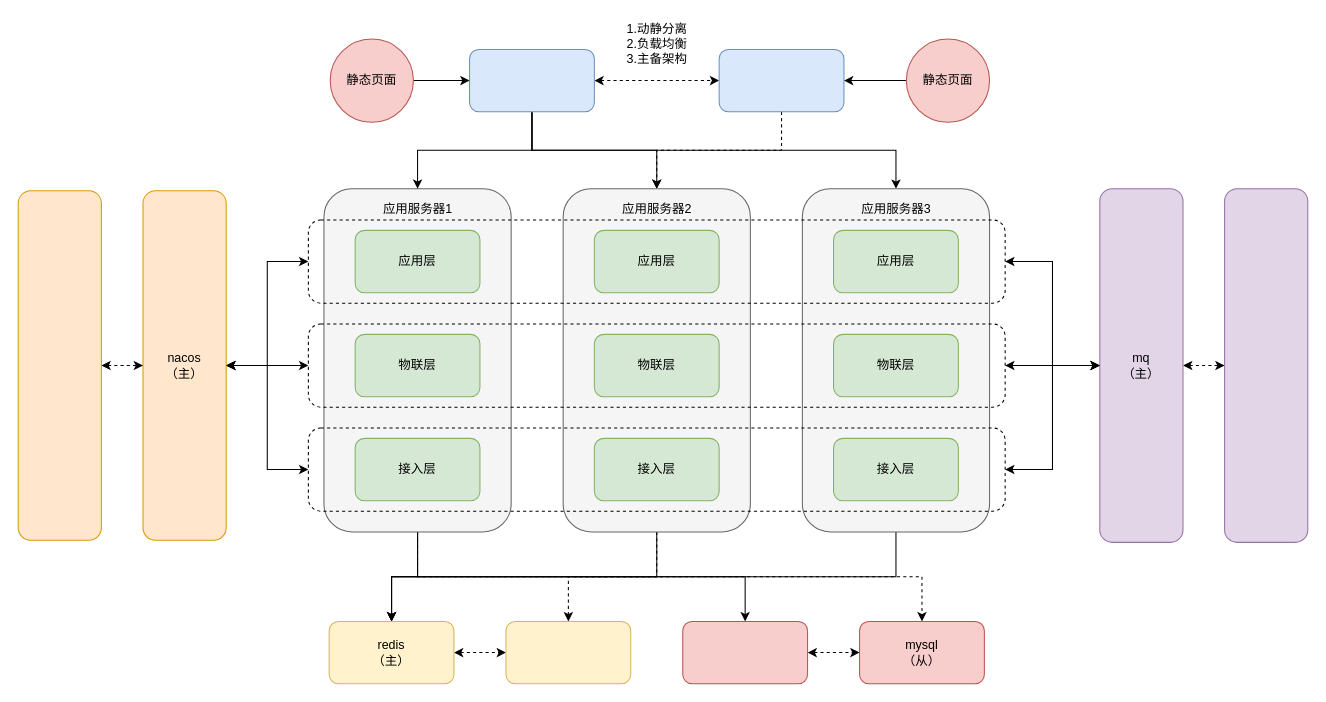
Some shapes in this 1326 by 702 pixel diagram are drawn without their labels. Here are the shapes that lost their labels. From the top down, the centre of each, then its label:
(531,80): nginx （主）
(781,80): nginx （从）
(59,365): nacos （从）
(1266,365): mq （从）
(568,652): redis （从）
(745,652): mysql （主）
